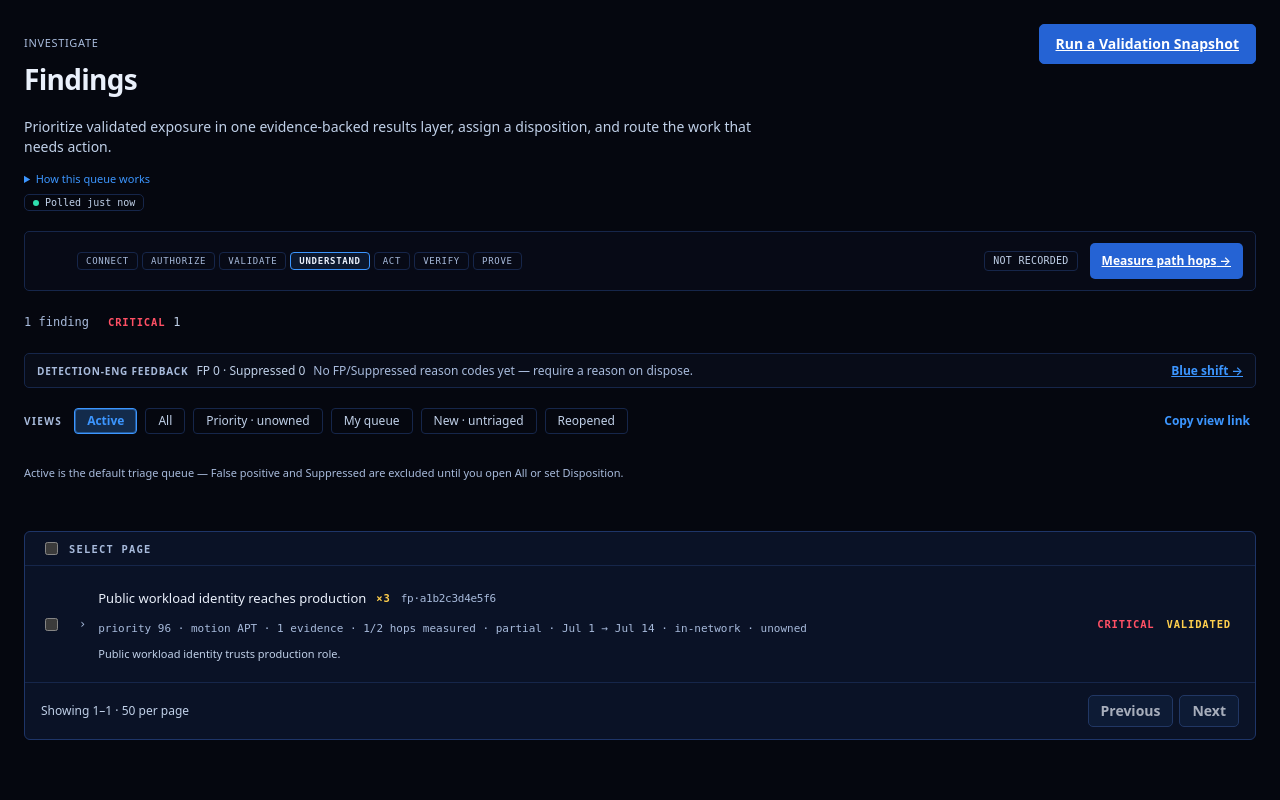
Scenario: FindingsWorkbench v2 › makes severity chips filter and select matching (ICP-P2-2)
The image size is (1280, 800).
Expected: the text "Public workload identity reaches production" is shown, [98,589,366,607]
Click the button with test id "findings-severity-chip-Critical".
click(143, 322)  # box [97,311,190,333]
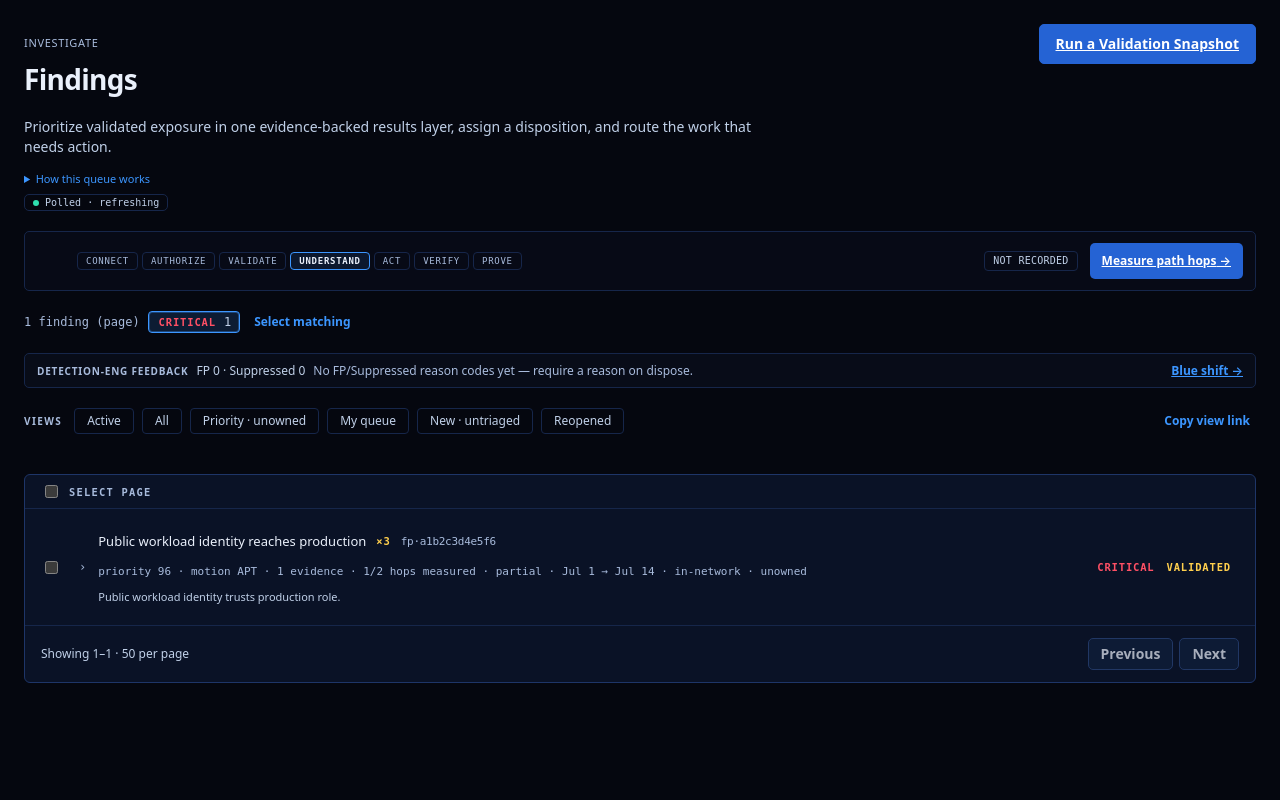
Expected: the button with test id "findings-select-matching-severity" is shown
Click the button with test id "findings-select-matching-severity".
click(302, 322)  # box [248,313,356,331]
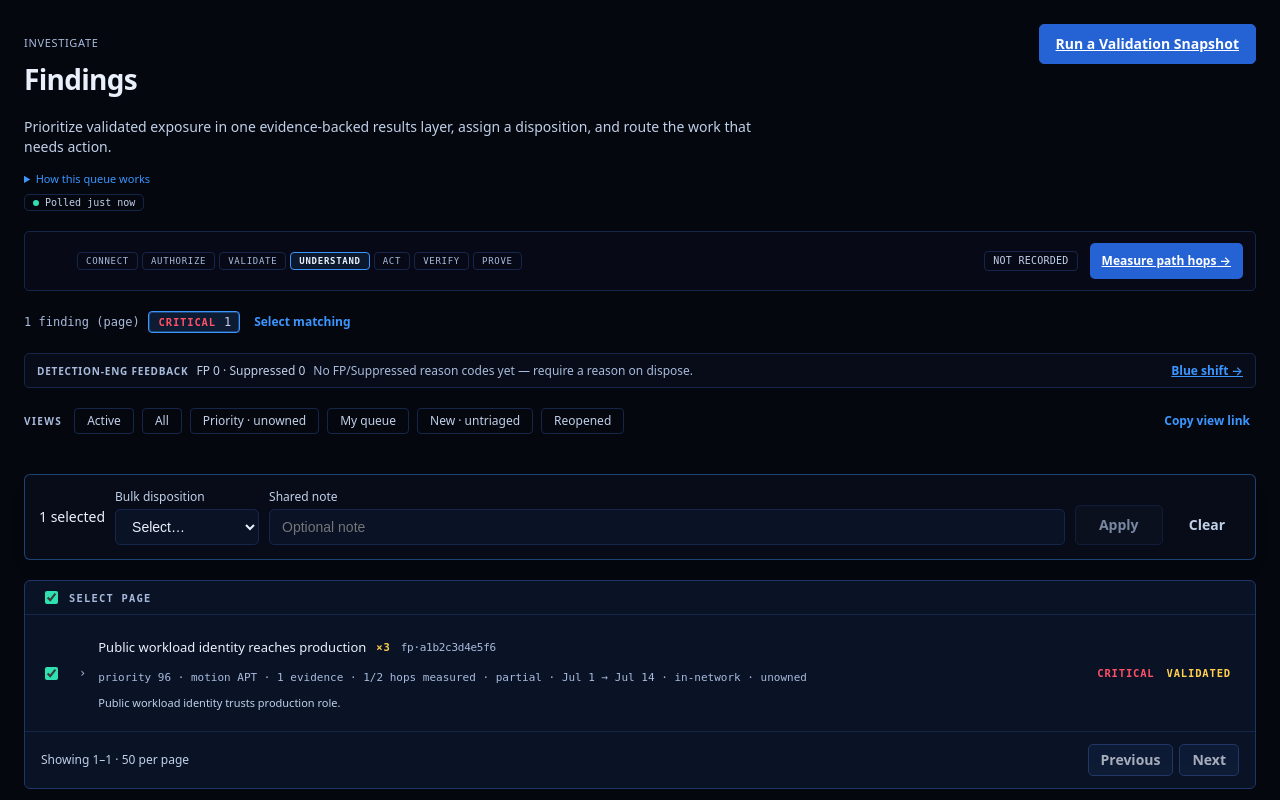
Expected: the text "1 selected" is shown, [39,507,105,527]
